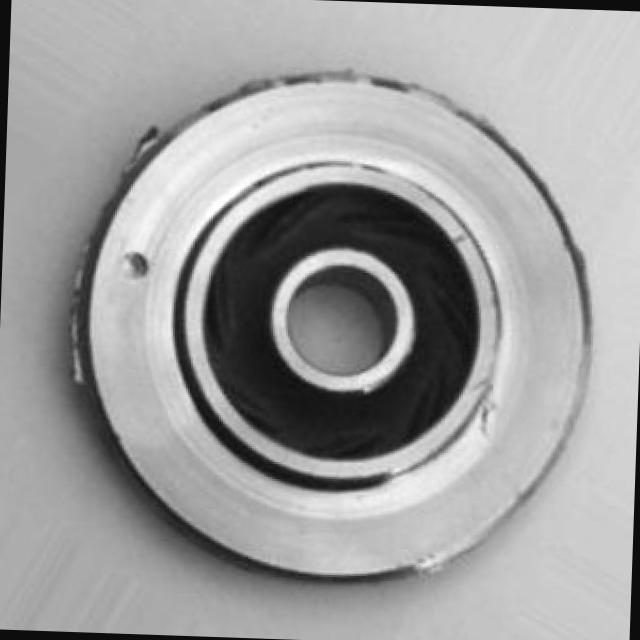Defect: (112, 247, 153, 286)
